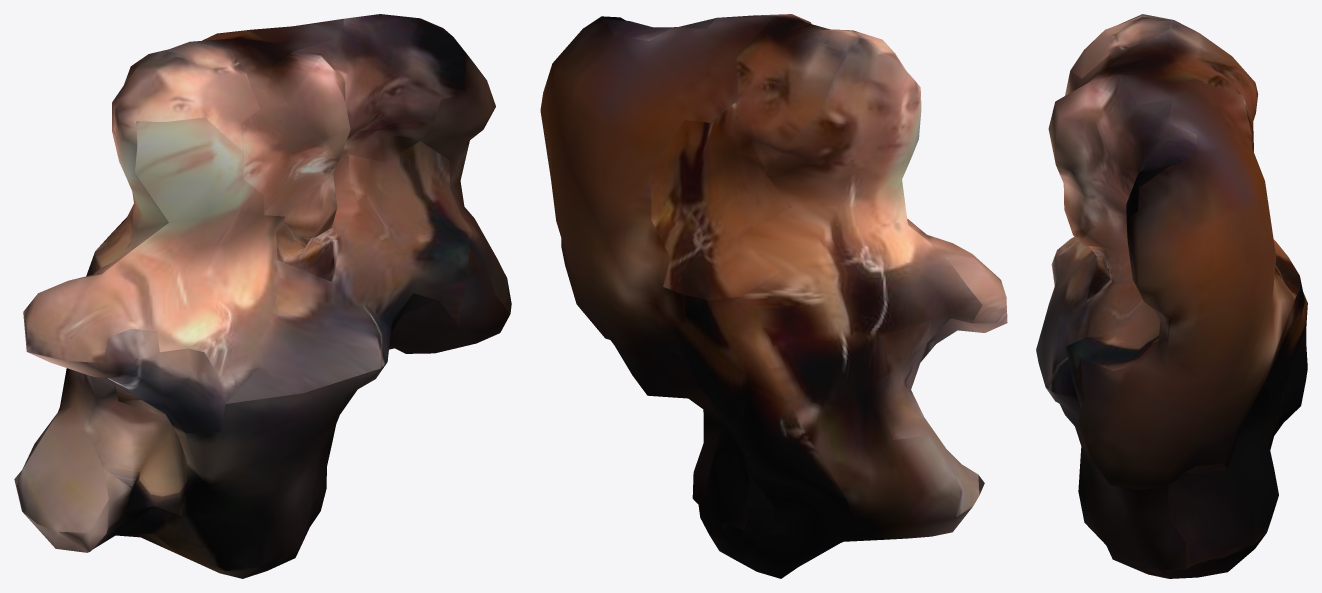
File: teleport.glb
The picture shows the model from 3 angles, left to right: view 1: azimuth 30°, elevation 25°; view 2: azimuth 150°, elevation 25°; view 3: azimuth 270°, elevation 25°; orthographic projection. The views are drawn at different scales.
Visible parts, largest first — view 1: default.002; view 2: default.002; view 3: default.002.
Boxes of the visible parts, left/top/right/bottom form: default.002: left=14, top=14, right=511, bottom=578; default.002: left=540, top=14, right=1007, bottom=578; default.002: left=1036, top=14, right=1307, bottom=578.
Size of the model in its own units: 2.63 by 2.85 by 1.37.
1 material, 1 textured.
